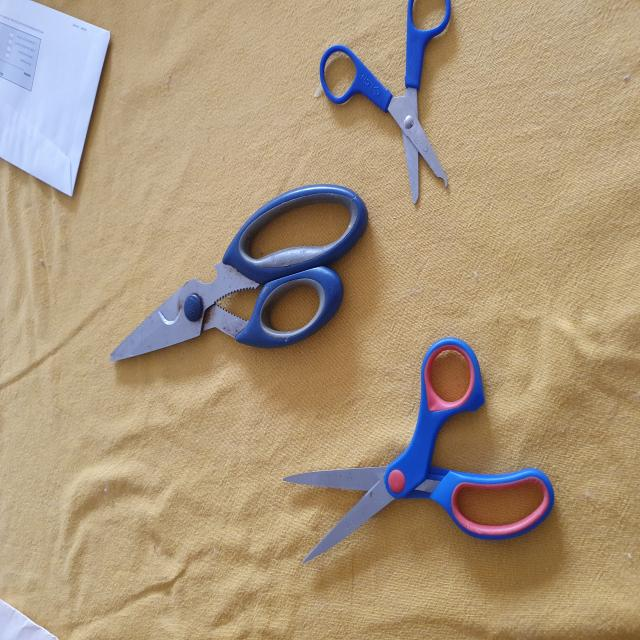scissors: (282, 342, 558, 566), (108, 182, 370, 368), (316, 0, 454, 210)
